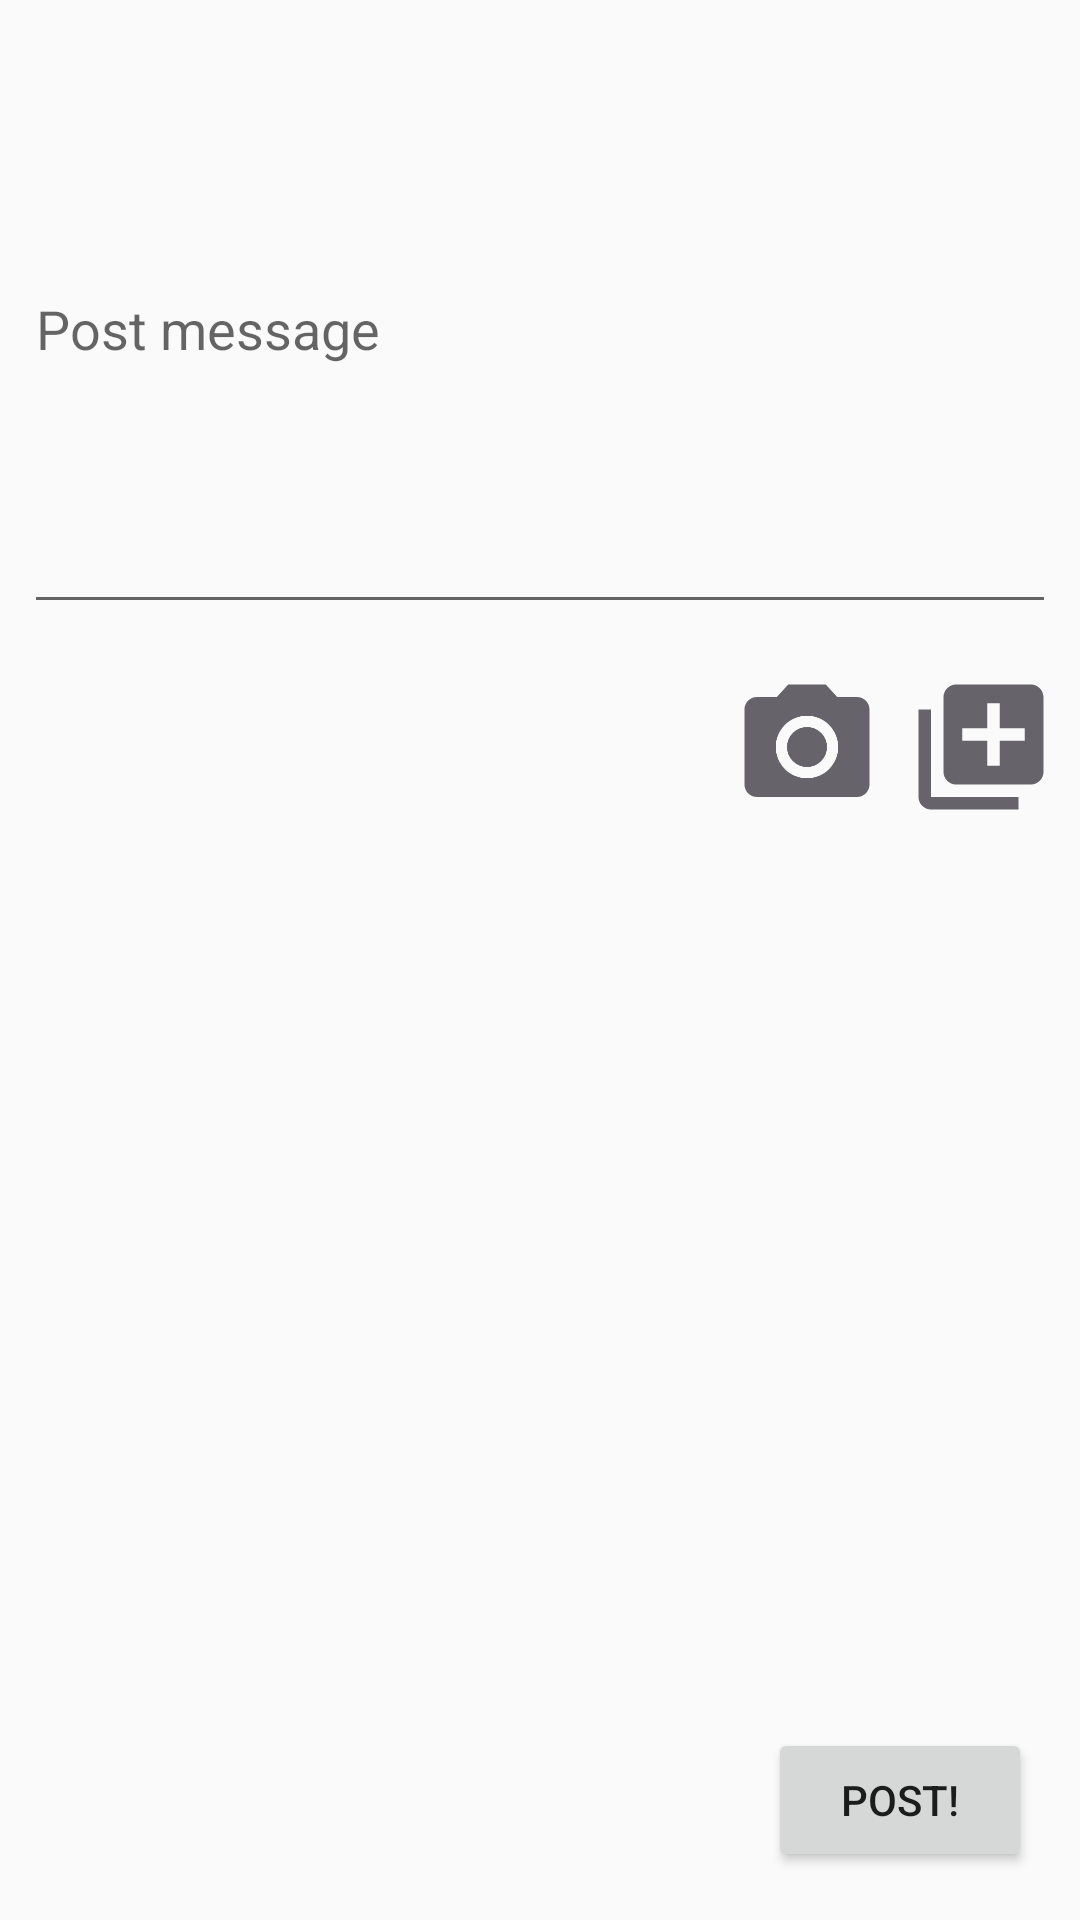

Named icons in this screenshot (1080w x 1920h) and their bounding boxes, Rect(x1, y1, x2, y2):
Add image: Rect(918, 684, 1044, 810)
Take image: Rect(744, 684, 870, 797)
